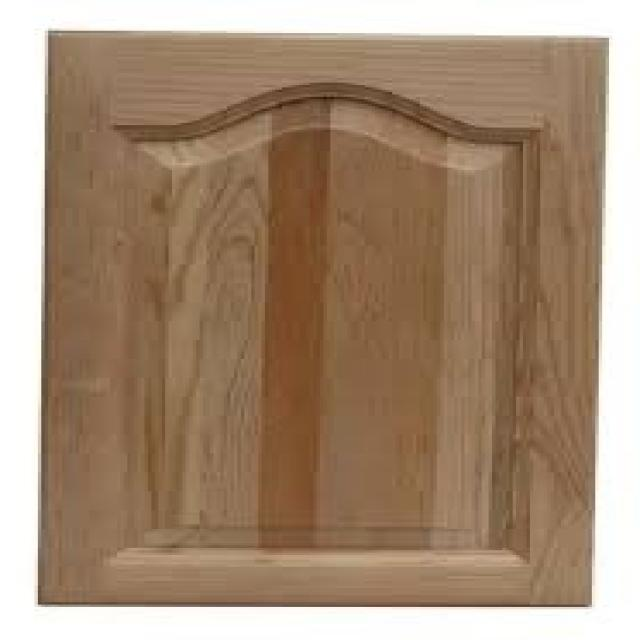door: (38, 30, 609, 608)
